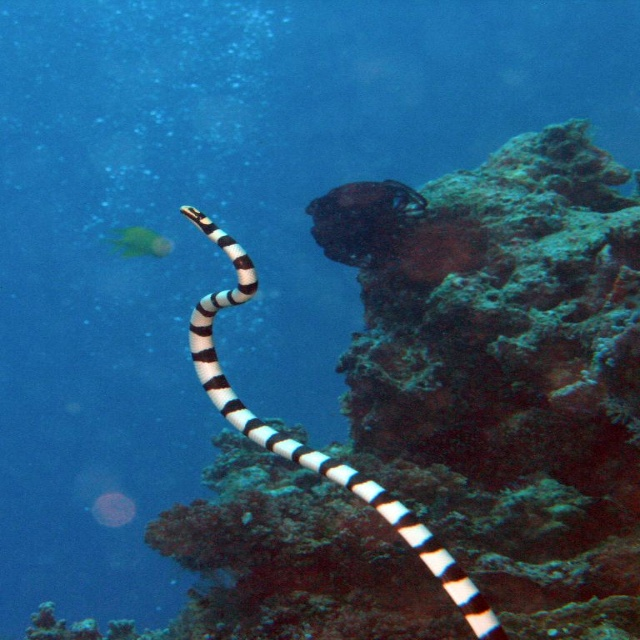Snake: (182, 206, 507, 637)
